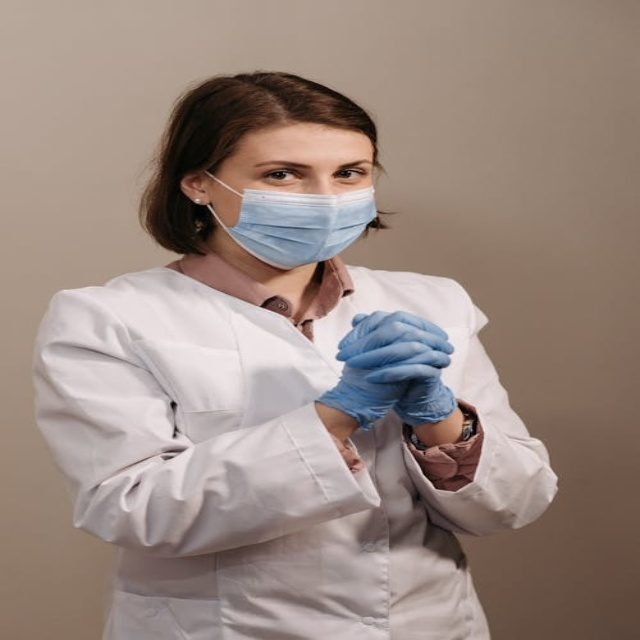Guantes: (317, 309, 457, 430)
Mascara: (201, 169, 377, 268)
Sin_gafas: (238, 156, 376, 185)
